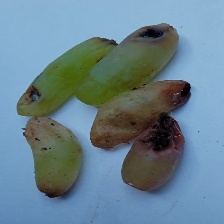grapes: (33, 27, 173, 164)
